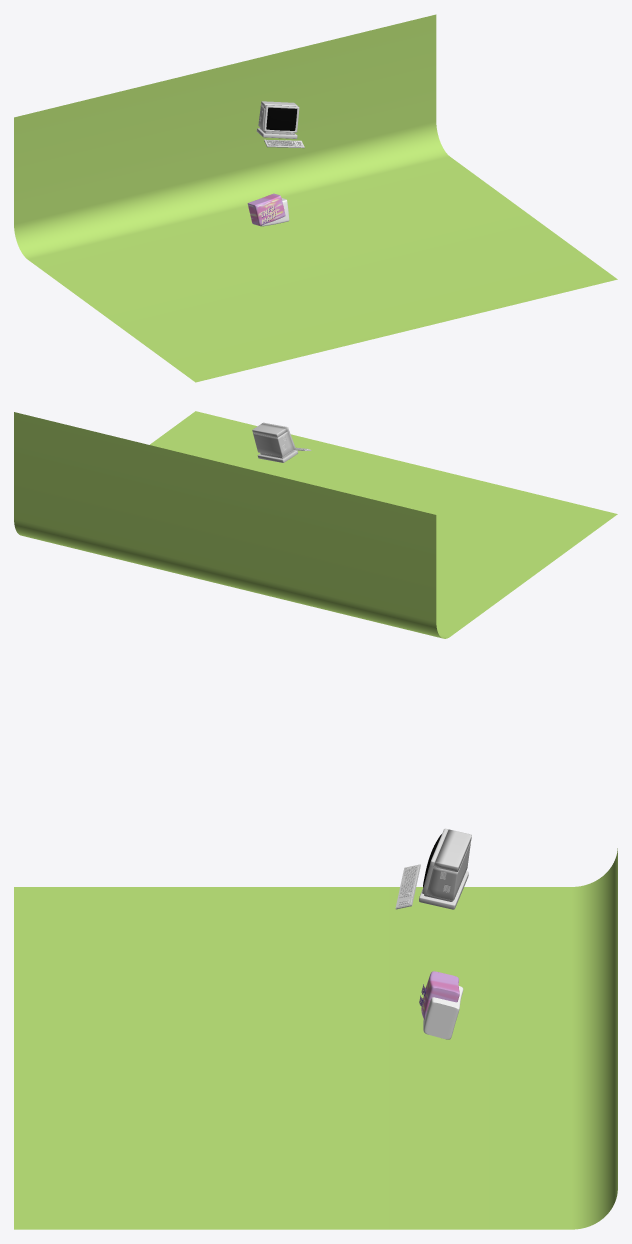
The model's file is パソコン.glb.
3 views of the same model, one above another, from view 1: azimuth 30°, elevation 25°; view 2: azimuth 150°, elevation 25°; view 3: azimuth 270°, elevation 25° (orthographic). The views are drawn at different scales.
Parts seen in each view (by area): view 1: 平面.001, ピンク画面, 平面_slice.004, クロ画面; view 2: 平面.001, 平面_slice.004; view 3: 平面.001, 平面_slice.004, ノイズ画面, ピンク画面.
Boxes of the visible parts, x1,y1,x2,y2 form: 平面.001: (14, 14, 617, 382); ピンク画面: (247, 193, 285, 225); 平面_slice.004: (256, 101, 299, 138); クロ画面: (266, 107, 296, 130); 平面.001: (14, 411, 617, 638); 平面_slice.004: (252, 422, 297, 462); 平面.001: (14, 848, 617, 1229); 平面_slice.004: (419, 828, 471, 909); ノイズ画面: (423, 986, 463, 1039); ピンク画面: (421, 971, 459, 1019).
Size of the model in its own units: 7.34 by 2.21 by 5.47.
7 materials, 1 textured.
